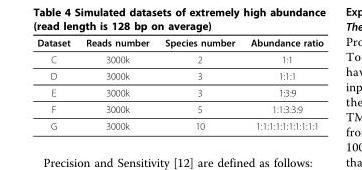table: (36, 36, 322, 131)
table column: (156, 36, 242, 131), (242, 36, 322, 131), (77, 36, 156, 131), (36, 36, 77, 131)
table column header: (36, 36, 322, 50)
table row: (36, 50, 322, 67), (36, 67, 322, 84), (36, 100, 322, 117), (36, 84, 322, 100), (36, 36, 322, 50), (36, 117, 322, 131)
